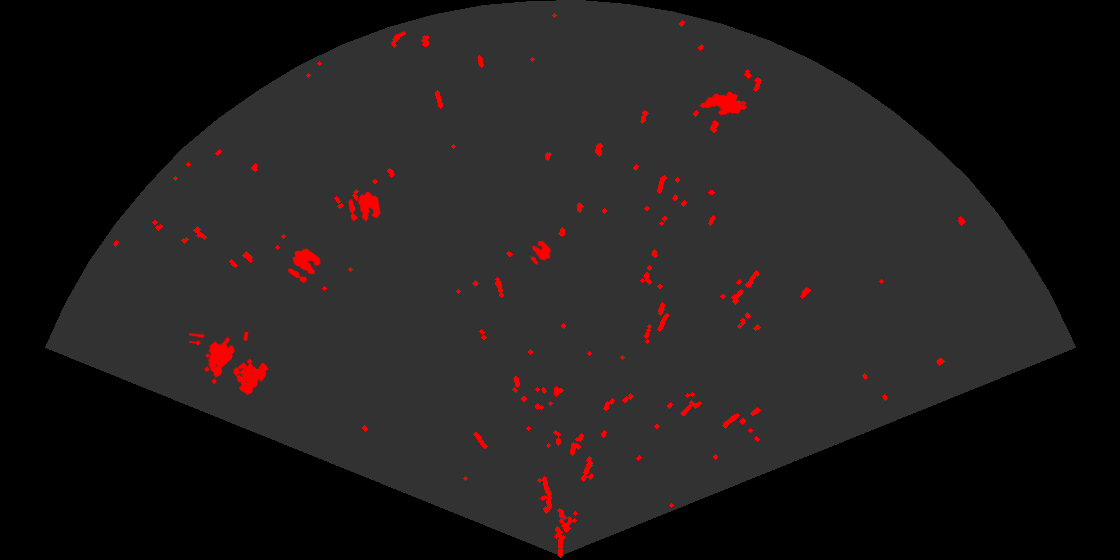AUV: (698, 90, 749, 117)
ball: (286, 247, 322, 285), (347, 190, 382, 223), (529, 239, 553, 266)
cage: (189, 332, 270, 396)
